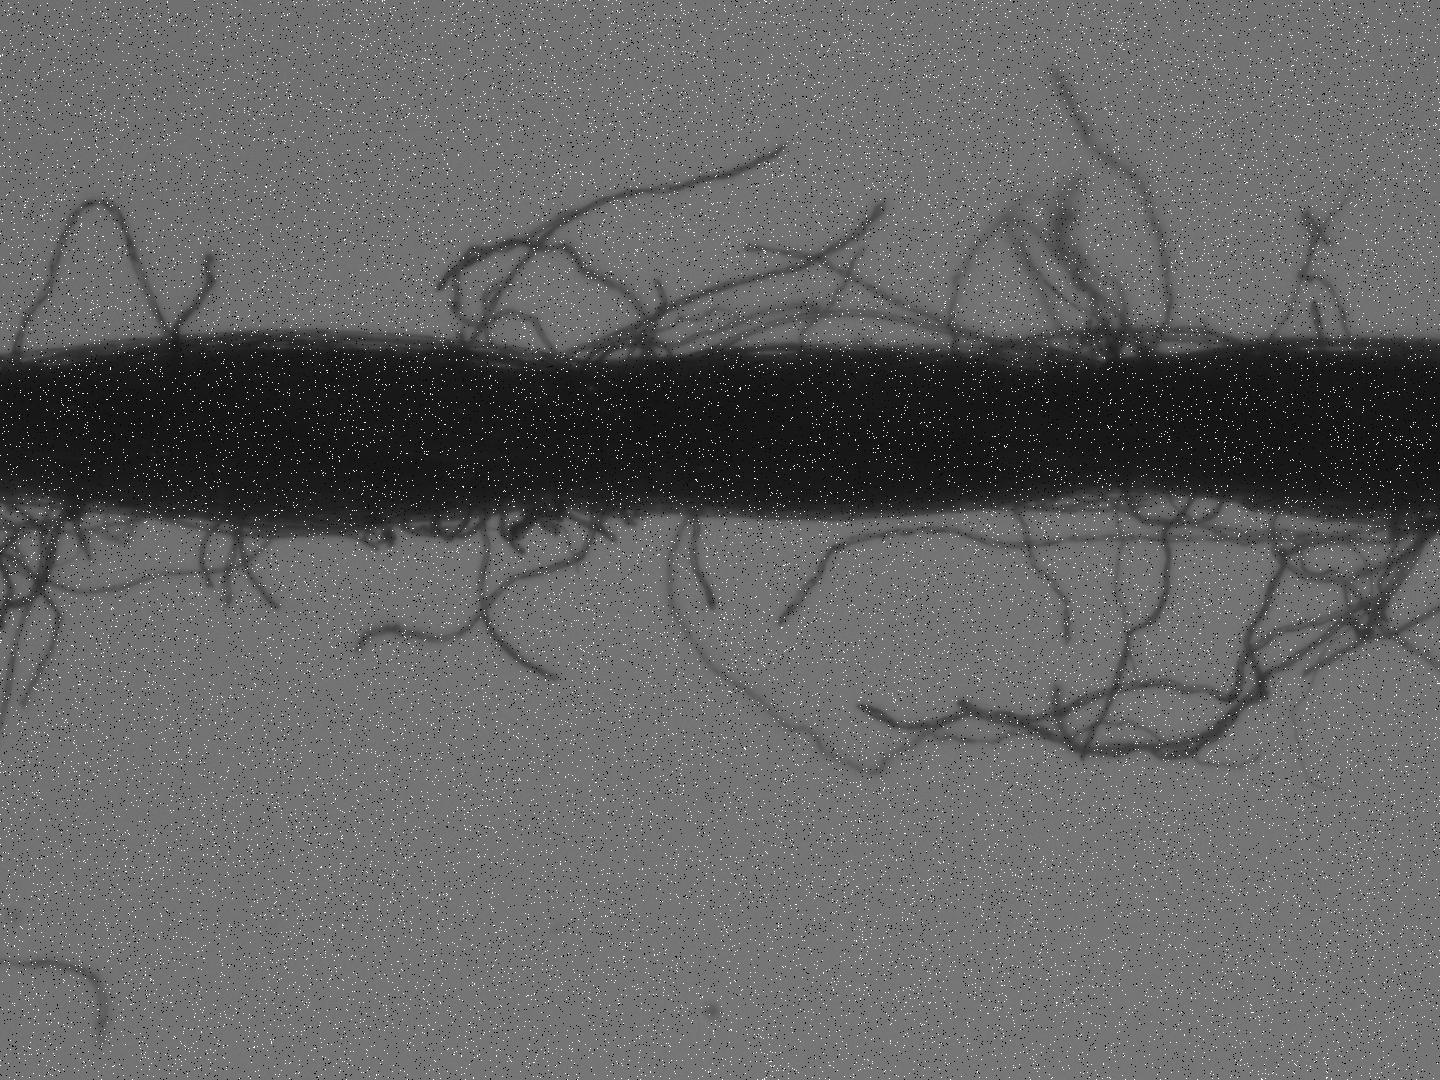loop_fiber: (7, 195, 178, 357), (448, 237, 647, 364), (9, 503, 281, 593), (714, 304, 1053, 361), (1271, 504, 1434, 584), (975, 323, 1237, 366), (11, 489, 145, 535), (1005, 486, 1171, 515), (1125, 480, 1229, 526), (461, 311, 560, 360), (403, 506, 495, 537), (587, 332, 671, 361), (519, 501, 570, 535)
protruding_fiber: (584, 192, 889, 355), (1047, 68, 1174, 352), (475, 514, 557, 686), (1127, 488, 1198, 669), (1014, 508, 1074, 648), (232, 523, 281, 615), (169, 250, 217, 340), (688, 508, 721, 614)
